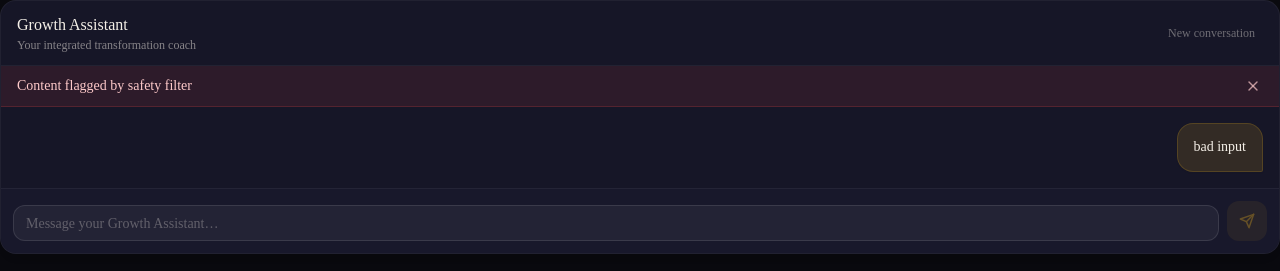
Test: ChatPanel › shows an error banner when error is set and dismisses it on click
This screenshot has width=1280, height=271.
Expected: the message shows "safety filter", [17,78,192,93]
Step 1. Click the button named "dismiss error" → (1253, 86), box [1243,76,1263,96]
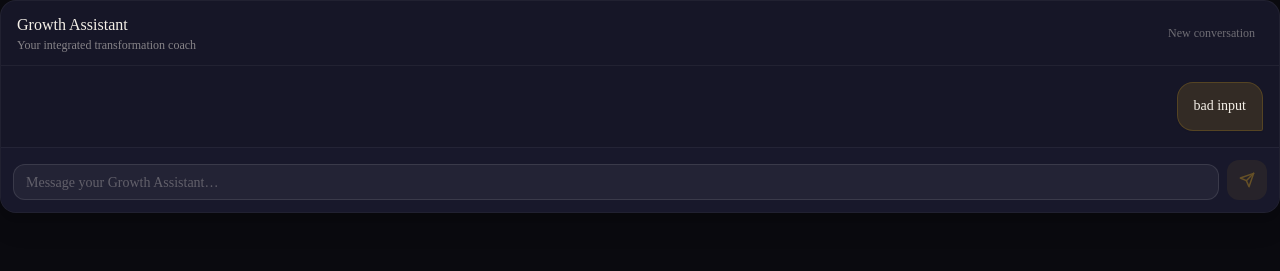
Expected: the message "Content flagged by safety filter" is gone
